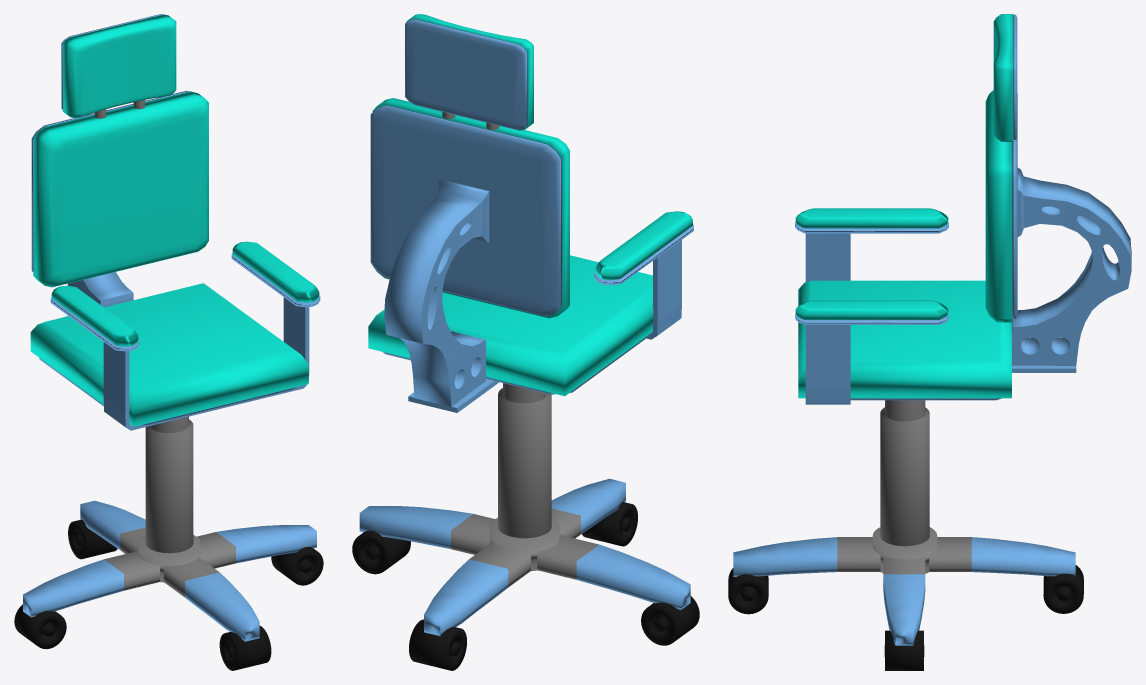
The model's file is chair_tier13.fbx.
3 renders of one model, left to right at view 1: azimuth 30°, elevation 25°; view 2: azimuth 150°, elevation 25°; view 3: azimuth 270°, elevation 25°, orthographic. The views are drawn at different scales.
Parts seen in each view (by area): view 1: Cube.007, Cube, Cube.009, Cube.002, Cube.001, Cylinder.001, Cube.011, Cube.012, Cube.014, Cylinder.005, Cylinder.004, Cylinder.003 (+7 smaller); view 2: Cube.005, Cube, Cube.006, Cube.008, Cube.002, Cube.001, Cylinder.001, Cube.007, Cube.012, Cube.011, Cylinder.006, Cylinder.004 (+7 smaller); view 3: Cube, Cube.006, Cube.001, Cylinder.001, Cube.011, Cube.007, Cube.002, Cube.012, Cube.014, Cube.009, Cylinder.006, Cylinder.005 (+7 smaller).
Boxes of the visible parts, x1,y1,x2,y2 form: Cube.007: [33, 91, 208, 287]; Cube: [30, 283, 308, 426]; Cube.009: [62, 14, 176, 118]; Cube.002: [23, 525, 316, 617]; Cube.001: [80, 500, 259, 641]; Cylinder.001: [145, 419, 193, 553]; Cube.011: [103, 297, 309, 430]; Cube.012: [51, 285, 138, 346]; Cube.014: [232, 241, 319, 302]; Cylinder.005: [219, 625, 271, 670]; Cylinder.004: [14, 604, 66, 649]; Cylinder.003: [271, 547, 323, 585]; Cube.005: [370, 105, 561, 316]; Cube: [368, 255, 653, 396]; Cube.006: [384, 179, 489, 406]; Cube.008: [405, 19, 527, 129]; Cube.002: [359, 506, 690, 609]; Cube.001: [424, 478, 625, 635]; Cylinder.001: [498, 388, 551, 538]; Cube.007: [372, 98, 569, 318]; Cube.012: [595, 211, 692, 279]; Cube.011: [646, 240, 681, 339]; Cylinder.006: [409, 619, 466, 670]; Cylinder.004: [641, 596, 699, 645]; Cube: [798, 280, 1011, 398]; Cube.006: [1012, 168, 1131, 365]; Cube.001: [733, 537, 1075, 576]; Cylinder.001: [880, 407, 929, 546]; Cube.011: [805, 233, 850, 404]; Cube.007: [985, 90, 1012, 322]; Cube.002: [883, 556, 925, 645]; Cube.012: [795, 208, 948, 228]; Cube.014: [795, 300, 948, 319]; Cube.009: [993, 14, 1013, 141]; Cylinder.006: [1043, 565, 1083, 613]; Cylinder.005: [728, 568, 768, 614].
Size of the model in its own units: 70.78 by 127 by 82.
